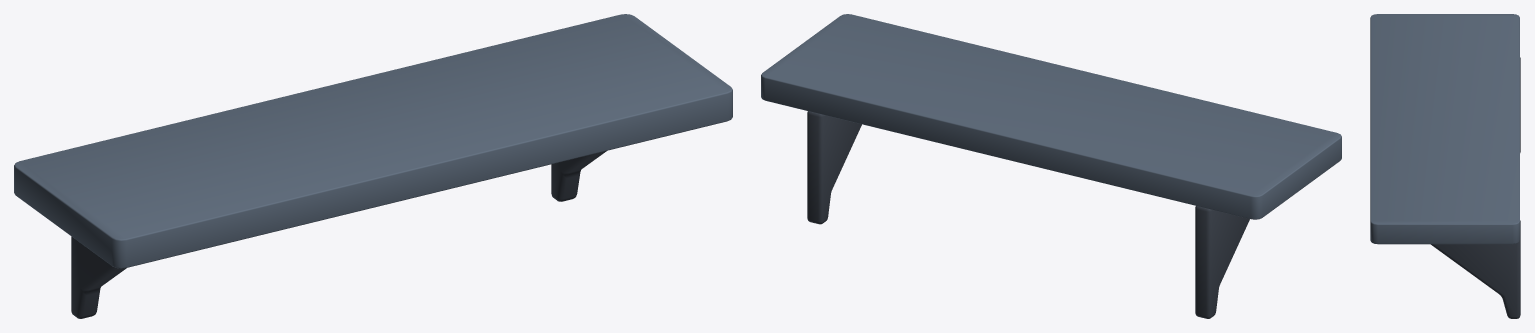
The model's file is prateleira_cozinha_grafite.glb.
3 views of the same model, side by side, from view 1: azimuth 30°, elevation 25°; view 2: azimuth 150°, elevation 25°; view 3: azimuth 270°, elevation 25° (orthographic). The views are drawn at different scales.
Parts seen in each view (by area): view 1: prateleira_cozinha_grafite; view 2: prateleira_cozinha_grafite; view 3: prateleira_cozinha_grafite.
Part boxes in pixels (x1,y1,x2,y2): prateleira_cozinha_grafite: [14, 14, 732, 318]; prateleira_cozinha_grafite: [761, 14, 1341, 318]; prateleira_cozinha_grafite: [1370, 14, 1520, 318].
Size of the model in its own units: 0.8 by 0.206 by 0.241.
1 material, 1 textured.
